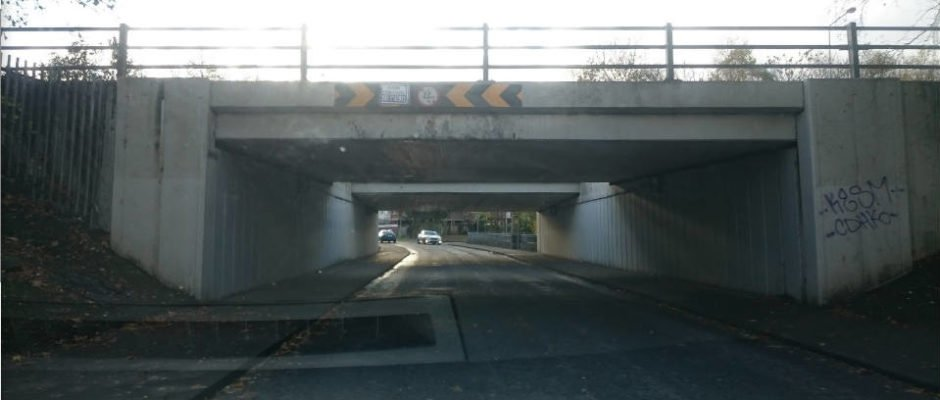bridge: (111, 24, 913, 323)
